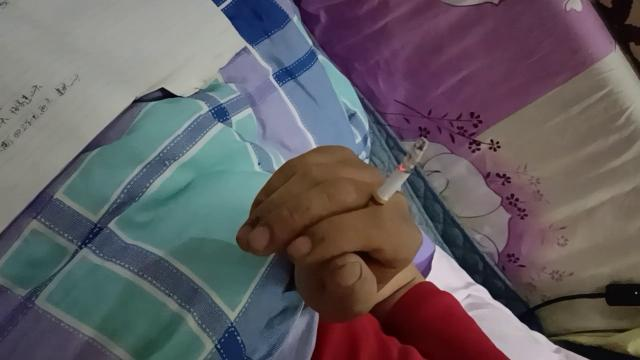Cigarette: (358, 136, 429, 224)
